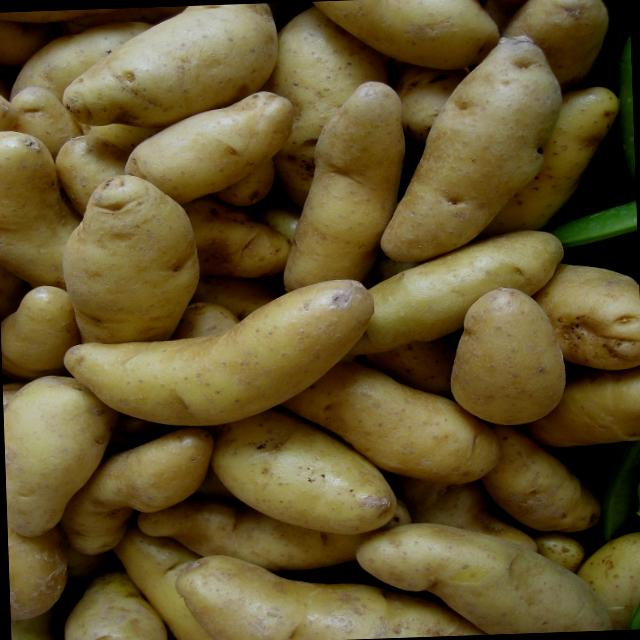potato: (376, 32, 568, 255), (63, 2, 283, 128), (210, 404, 397, 536), (446, 280, 566, 429), (228, 404, 230, 406)
